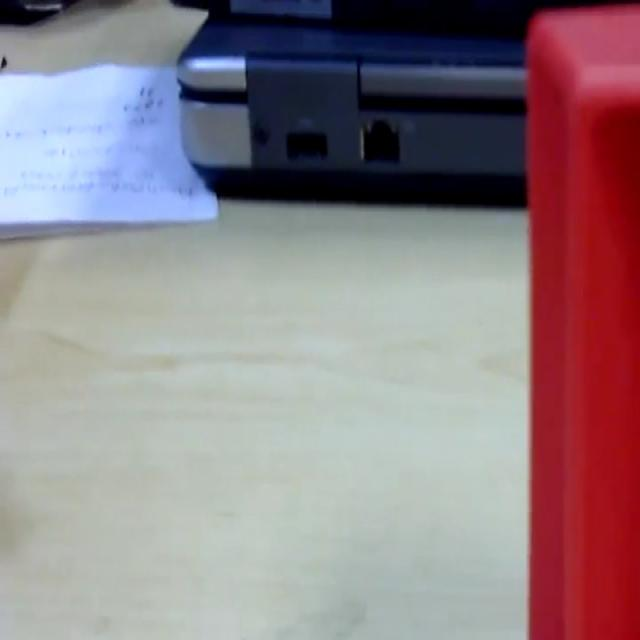red_block: (524, 4, 638, 636)
